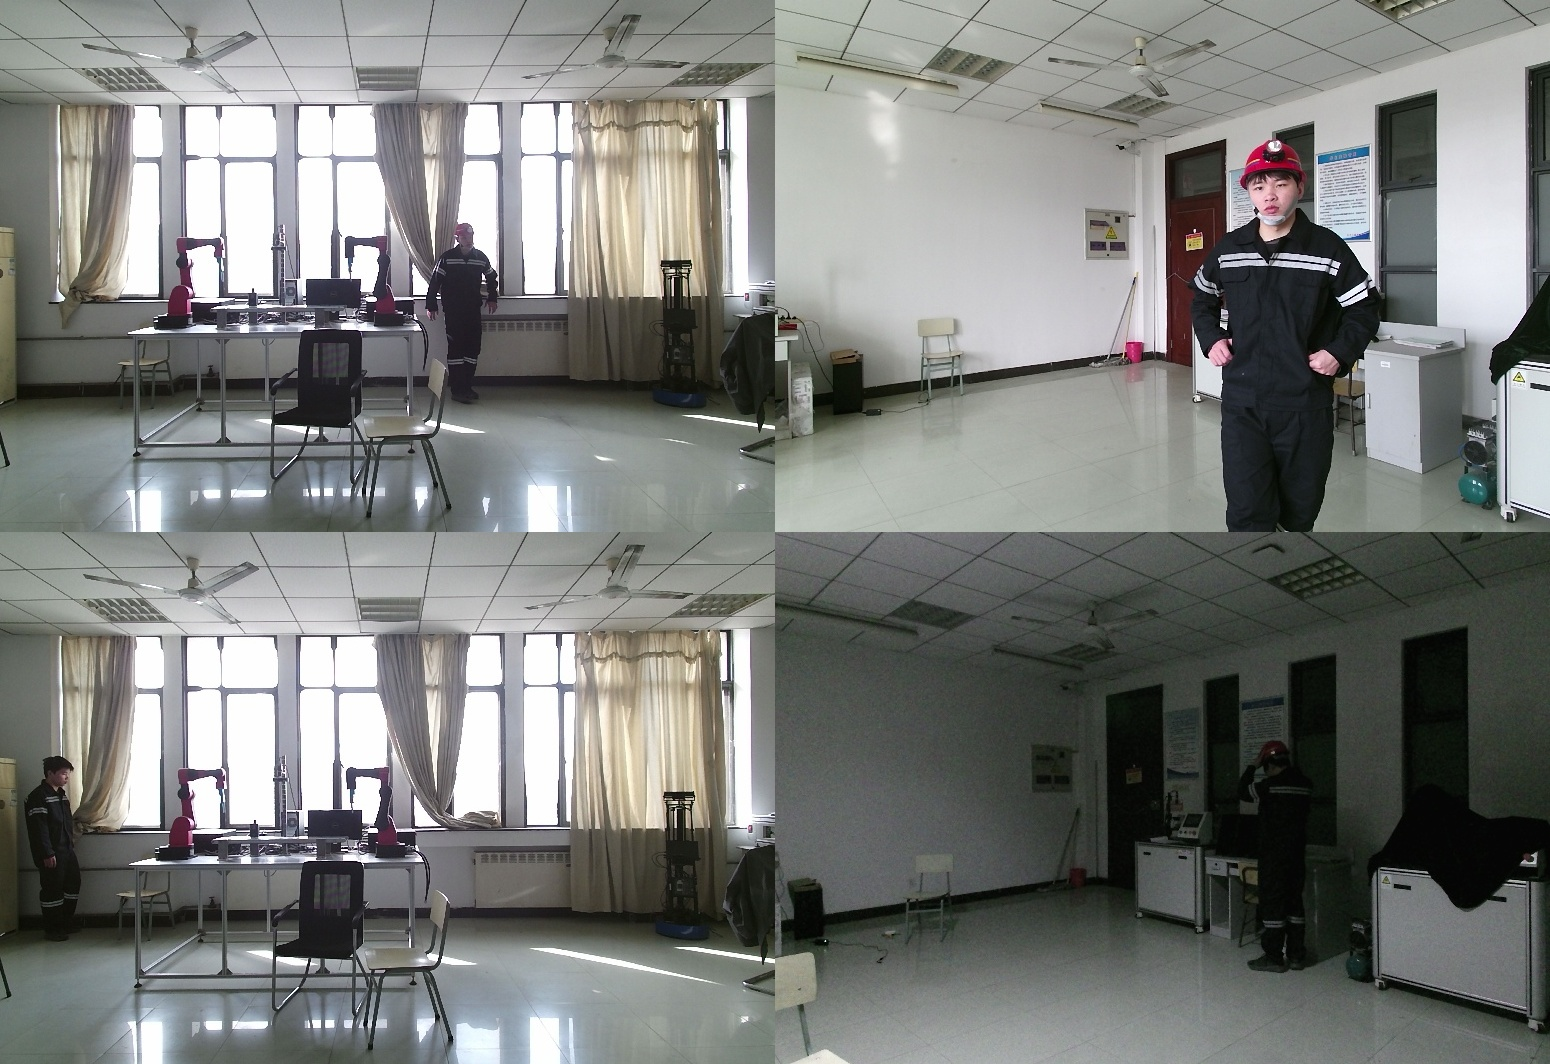person: (1191, 132, 1406, 532), (1235, 742, 1334, 972), (427, 225, 502, 413), (18, 756, 81, 943)
